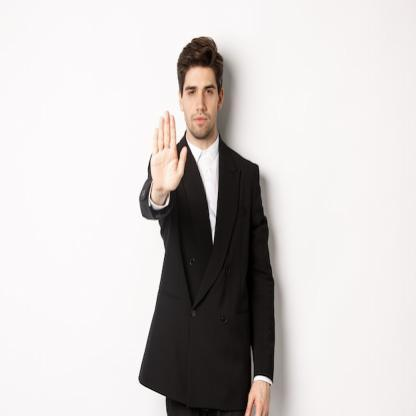stop: (150, 109, 189, 195)
